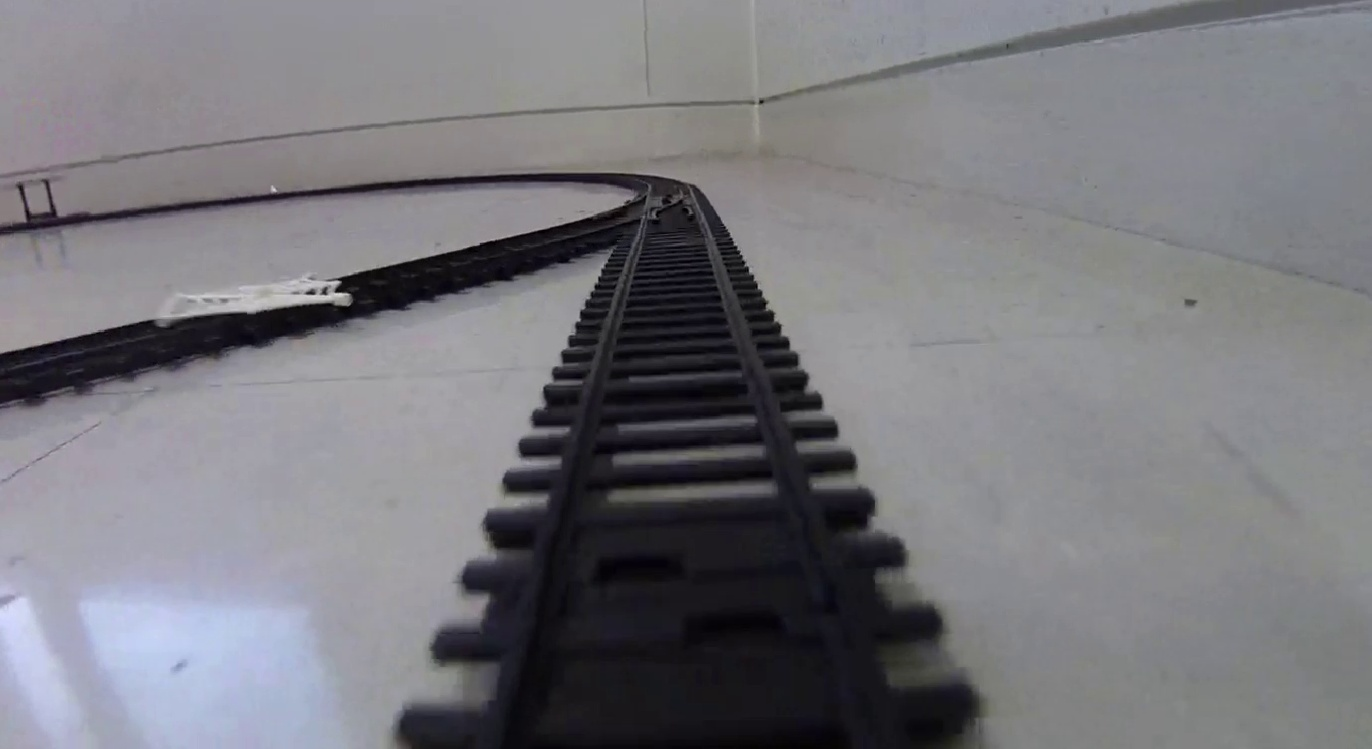web: (161, 271, 354, 324)
